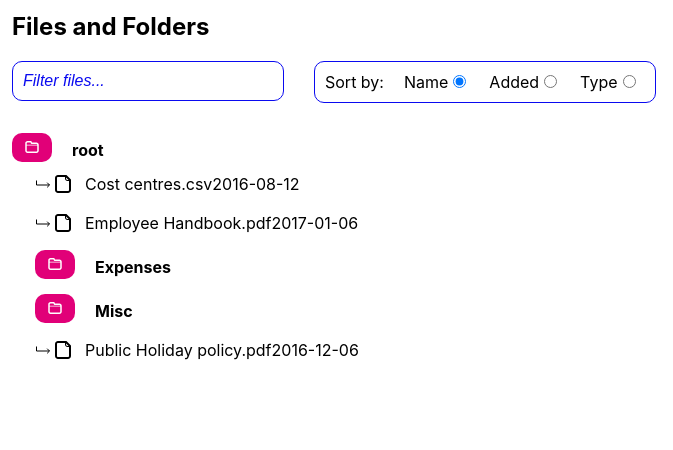
Test case: ./components/directory › should expand the file structure when the expand button is clicked
Click the button with test id "directoryButton" next to "Expenses" at (55, 264), box left=35, top=250, right=75, bottom=279
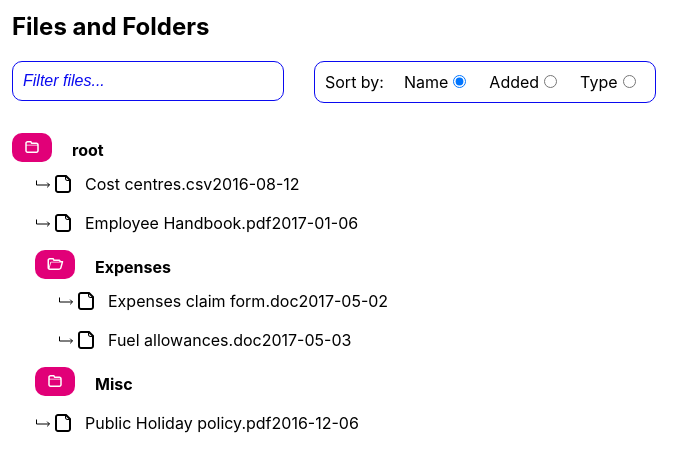
Expected: the text "Expenses claim form.doc" is shown, left=108, top=291, right=298, bottom=311
